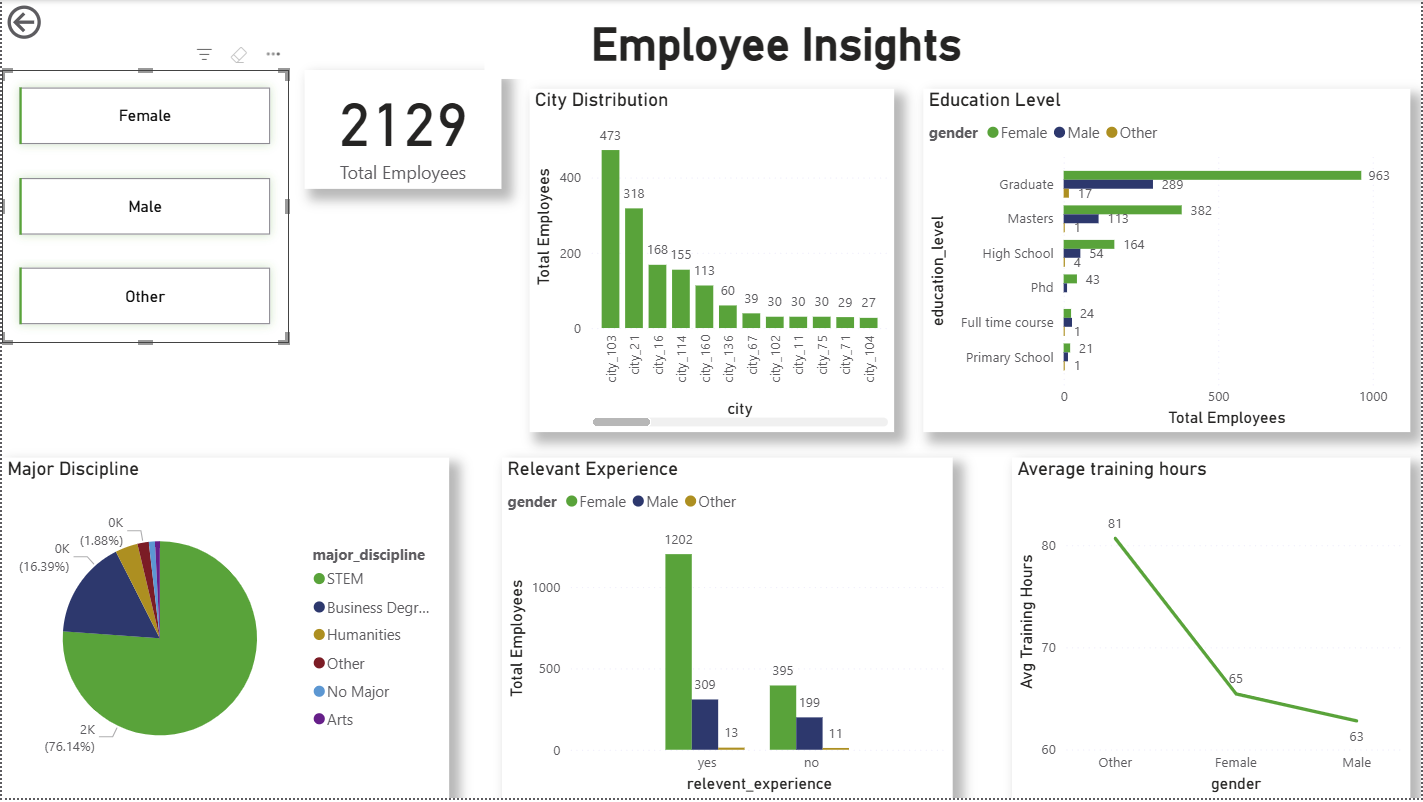

The page's visual inventory and layout, read from the dashboard file:
{"tool":"powerbi","page":{"name":"Page 1","canvas":[1280,720],"ordinal":0},"visuals":[{"type":"columnChart","title":"City Distribution","fields":{"Y":["aug_test.Total Employees"],"Category":["aug_test.city"]},"box":[475.2,79.6,328.4,309.7],"z":0},{"type":"clusteredBarChart","title":"Education Level","fields":{"Category":["aug_test.education_level"],"Y":["aug_test.Total Employees"],"Series":["aug_test.gender"]},"box":[831,79.6,439.1,309.7],"z":1000},{"type":"actionButton","box":[0,0,100,40],"z":2000},{"type":"pieChart","title":"Major Discipline","fields":{"Category":["aug_test.major_discipline"],"Y":["aug_test.Total Employees"]},"box":[0,413,403,307.3],"z":3000},{"type":"clusteredColumnChart","title":"Relevant Experience","fields":{"Y":["aug_test.Total Employees"],"Category":["aug_test.relevent_experience"],"Series":["aug_test.gender"]},"box":[450.3,413,406.8,307.3],"z":4000},{"type":"lineChart","title":"Average training hours","fields":{"Y":["aug_test.Avg Training Hours"],"Category":["aug_test.gender"]},"box":[910.6,413,359.5,307.3],"z":5000},{"type":"card","fields":{"Values":["aug_test.Total Employees"]},"box":[179.8,67.2,192.1,115.3],"z":6000},{"type":"imageDB603108E3FF4EBFB8047F5653368E8C","fields":{"imageUrl":["Table (2).ImageUrl"],"imageTitle":["Table (2).gender"]},"box":[201.7,220.9,146.8,138.6],"z":7000},{"type":"card","fields":{"Values":["aug_test.Dashboard Title"]},"box":[435.4,0,537.4,70.9],"z":8000},{"type":"imageDB603108E3FF4EBFB8047F5653368E8C","fields":{"imageUrl":["Table (2).ImageUrl"],"imageTitle":["Table (2).gender"]},"box":[12.3,52.1,149.6,145.5],"z":8001},{"type":"imageDB603108E3FF4EBFB8047F5653368E8C","fields":{"imageUrl":["Table (2).ImageUrl"],"imageTitle":["Table (2).gender"]},"box":[12.3,207.2,149.6,152.3],"z":8002}]}

Visuals, with their boxes on the page's 1280x720 design canvas (x1, y1, x2, y2). These are canvas units, not pixel positions in the 1423x802 screenshot, which may show the page scaled, cropped or inside an application window:
"City Distribution" columnChart: [left=475, top=80, right=804, bottom=389]
"Education Level" clusteredBarChart: [left=831, top=80, right=1270, bottom=389]
actionButton: [left=0, top=0, right=100, bottom=40]
"Major Discipline" pieChart: [left=0, top=413, right=403, bottom=720]
"Relevant Experience" clusteredColumnChart: [left=450, top=413, right=857, bottom=720]
"Average training hours" lineChart: [left=911, top=413, right=1270, bottom=720]
card - aug_test.Total Employees: [left=180, top=67, right=372, bottom=182]
imageDB603108E3FF4EBFB8047F5653368E8C - Table (2).ImageUrl x Table (2).gender: [left=202, top=221, right=348, bottom=360]
card - aug_test.Dashboard Title: [left=435, top=0, right=973, bottom=71]
imageDB603108E3FF4EBFB8047F5653368E8C - Table (2).ImageUrl x Table (2).gender: [left=12, top=52, right=162, bottom=198]
imageDB603108E3FF4EBFB8047F5653368E8C - Table (2).ImageUrl x Table (2).gender: [left=12, top=207, right=162, bottom=360]
